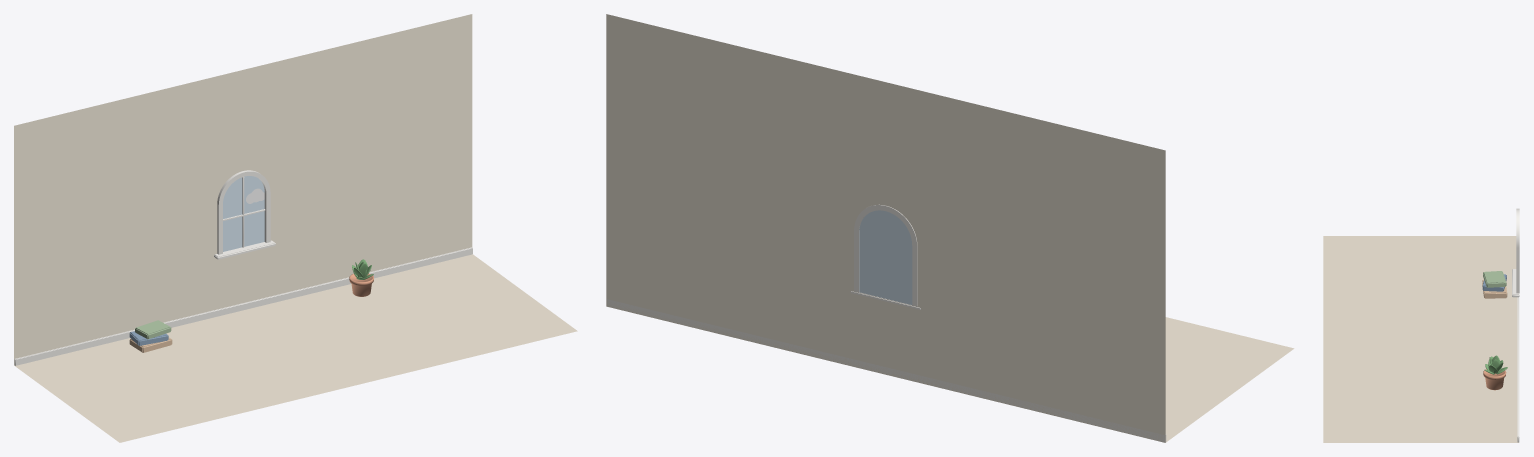
Rendered from stage.glb.
3 renders of one model, left to right at view 1: azimuth 30°, elevation 25°; view 2: azimuth 150°, elevation 25°; view 3: azimuth 270°, elevation 25°, orthographic. The views are drawn at different scales.
Visible parts, largest first — view 1: Wall, Floor, Baseboard, Window_Glass, Window_Frame; view 2: Wall, Floor, Window_Glass, Baseboard, Window_Frame; view 3: Floor, Baseboard, Book_3, Window_Frame, Pot, Book_1.
Part boxes in pixels (bbox=[...]): Wall: bbox=[14, 14, 472, 365]; Floor: bbox=[14, 254, 577, 442]; Baseboard: bbox=[14, 247, 472, 365]; Window_Glass: bbox=[223, 176, 264, 251]; Window_Frame: bbox=[217, 170, 270, 254]; Wall: bbox=[606, 14, 1165, 442]; Floor: bbox=[1165, 317, 1294, 442]; Window_Glass: bbox=[859, 210, 912, 304]; Baseboard: bbox=[607, 299, 1166, 441]; Window_Frame: bbox=[854, 204, 917, 306]; Floor: bbox=[1323, 236, 1519, 442]; Baseboard: bbox=[1517, 297, 1519, 442]; Book_3: bbox=[1483, 271, 1506, 287]; Window_Frame: bbox=[1516, 208, 1519, 293]; Pot: bbox=[1483, 369, 1506, 390]; Book_1: bbox=[1482, 279, 1507, 298].
Bounding box in the file's own units: 20 × 10 × 8.02.
